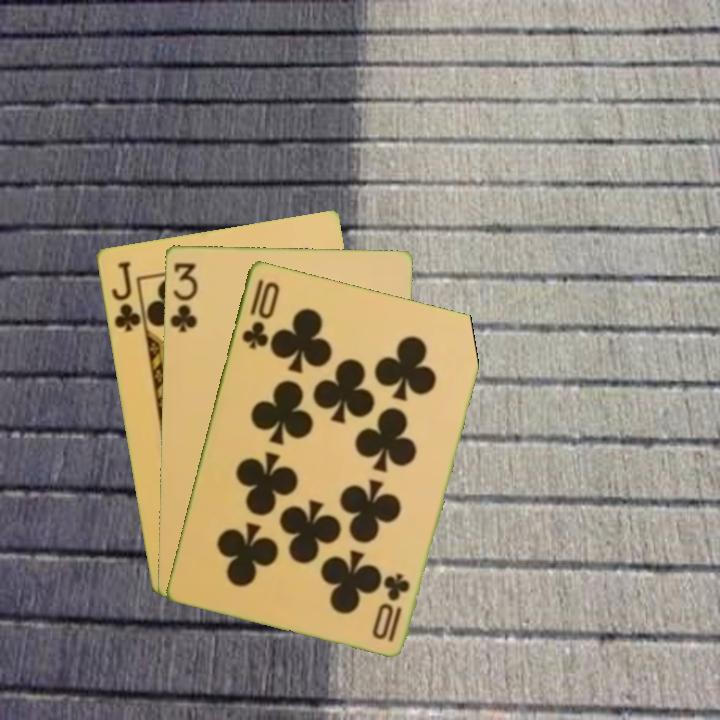10c: (238, 275, 282, 352), (370, 568, 413, 644)
3c: (166, 258, 200, 335)
Jc: (107, 257, 143, 335)
